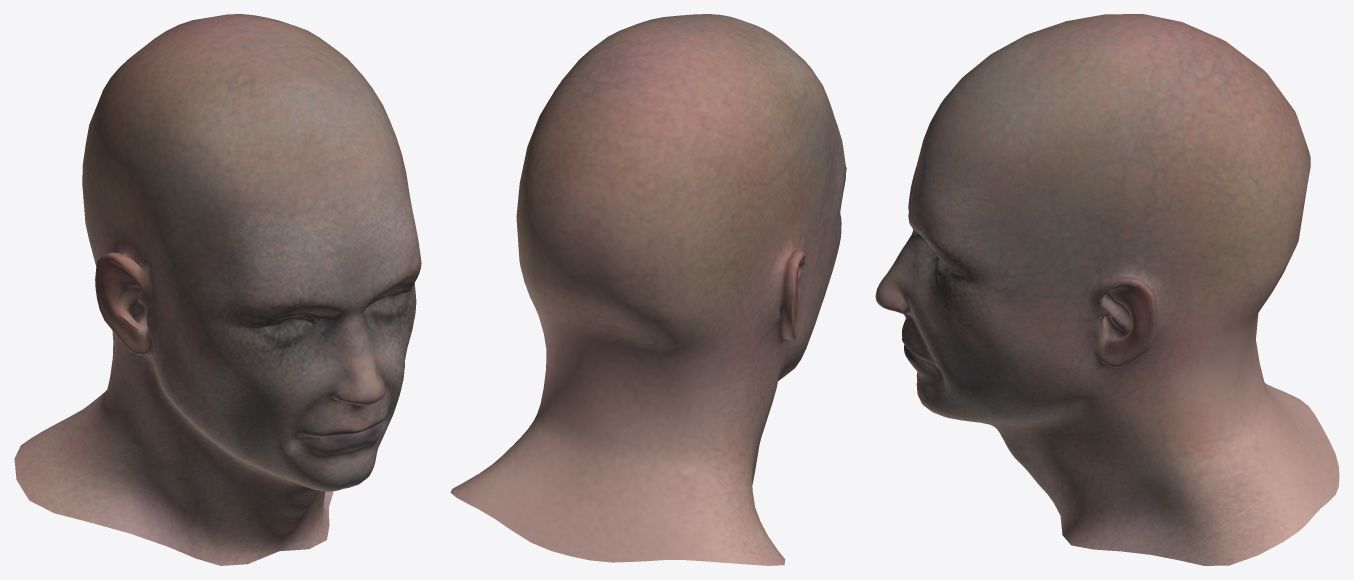
The model's file is head.fbx.
3 views of the same model, side by side, from view 1: azimuth 30°, elevation 25°; view 2: azimuth 150°, elevation 25°; view 3: azimuth 270°, elevation 25° (orthographic). The views are drawn at different scales.
Visible parts, largest first — view 1: head; view 2: head; view 3: head.
Boxes of the visible parts, x1=… form: head: x1=14, y1=14, x2=421, y2=565; head: x1=450, y1=14, x2=846, y2=565; head: x1=875, y1=14, x2=1339, y2=565.
Bounding box in the file's own units: 0.8338 × 1.22 × 1.04.
